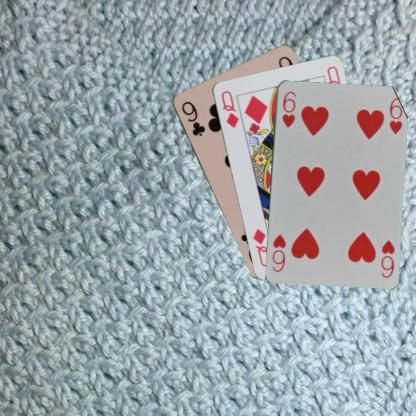6h: (279, 89, 297, 130), (378, 238, 396, 279)
9c: (179, 98, 206, 138)
Qd: (218, 88, 240, 129)
